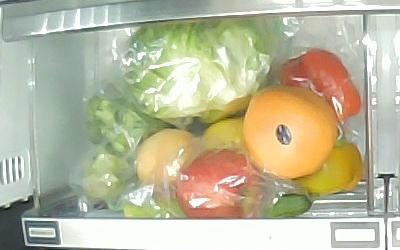apple_vinyl: (176, 149, 264, 218)
broccoli_vinyl: (83, 84, 174, 199)
cucumber_vinyl: (123, 193, 312, 218)
grapefruit: (243, 86, 336, 181)
lettuce_vinyl: (122, 17, 273, 129)
paprika_vinyl: (281, 49, 363, 124)
peach_vinyl: (136, 128, 202, 197)
persimmon: (297, 141, 364, 197)
